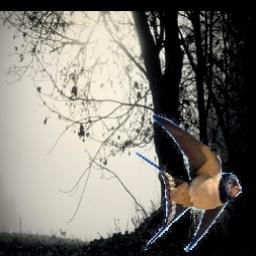Swallow: (135, 113, 242, 252)
